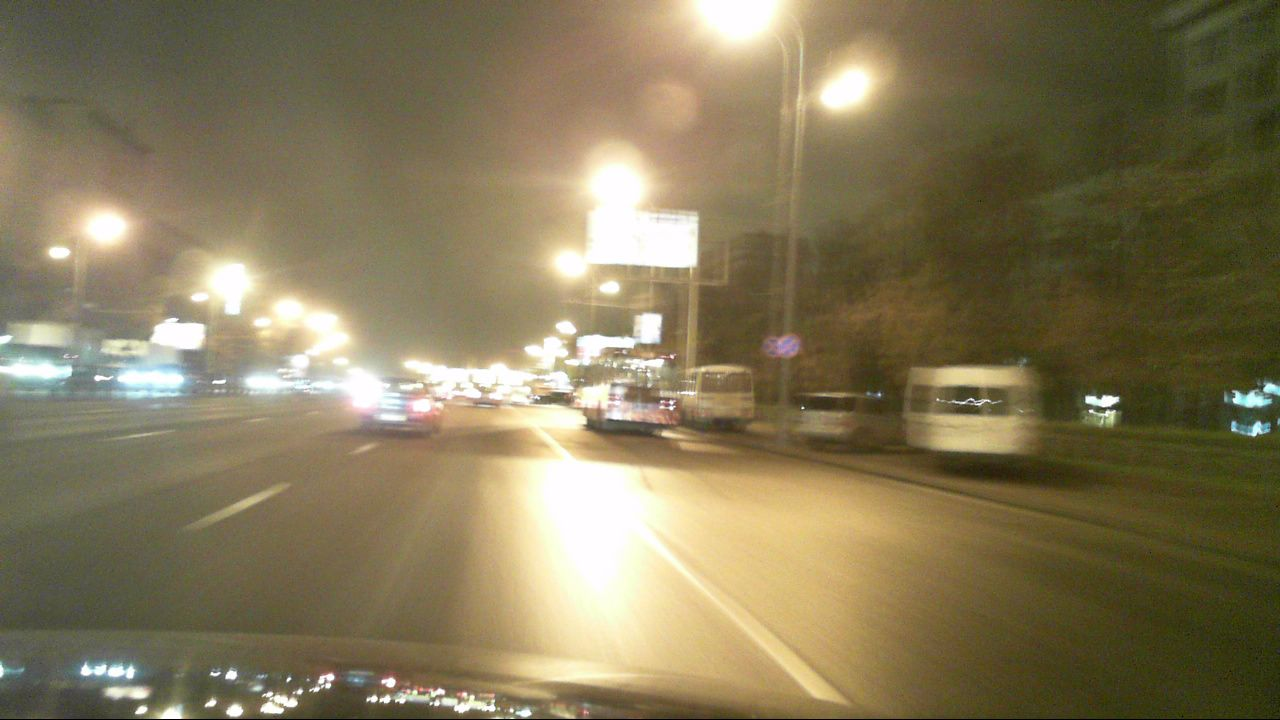No Parking: (775, 333, 799, 357)
